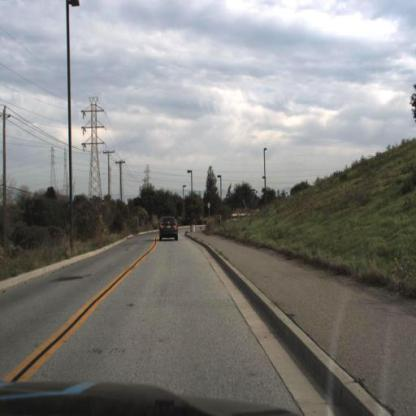car: (158, 217, 179, 242)
